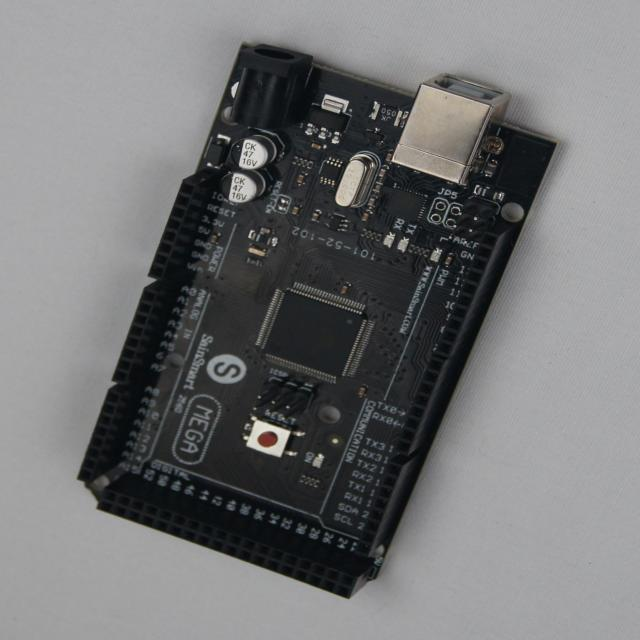Arduino Mega 2560 -Black-: (79, 45, 556, 598)
